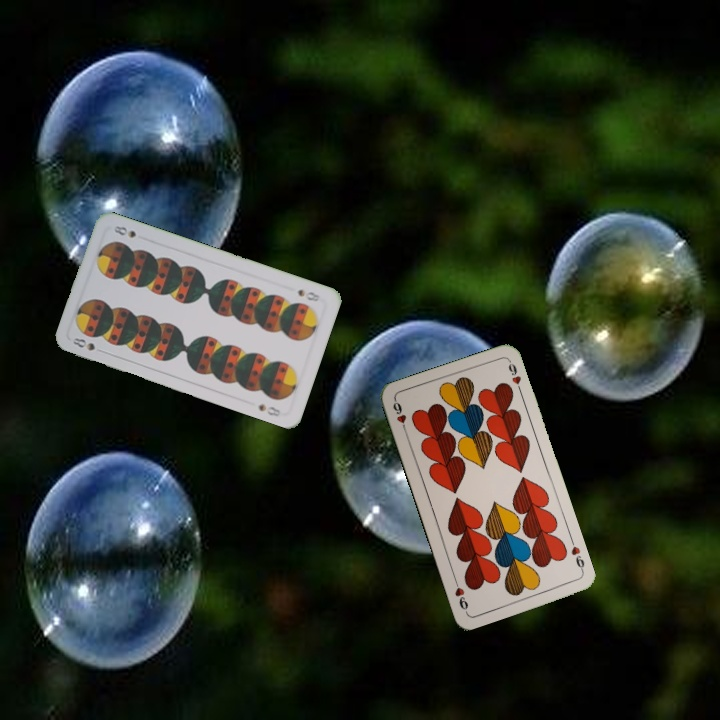H9: (389, 396, 410, 436), (567, 535, 587, 575)
S8: (68, 334, 98, 353), (294, 285, 323, 304)
